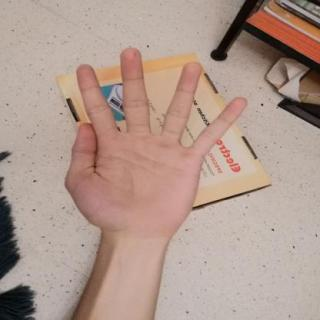SHEEN: (50, 44, 255, 248)
